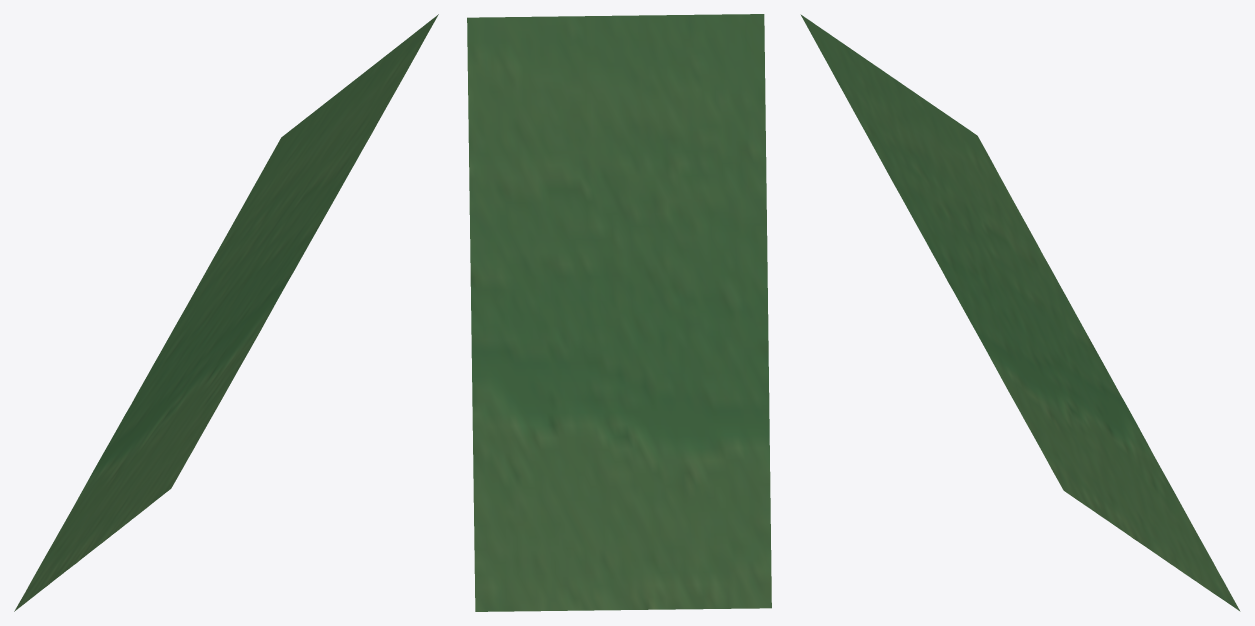
3 renders of one model, left to right at view 1: azimuth 30°, elevation 25°; view 2: azimuth 150°, elevation 25°; view 3: azimuth 270°, elevation 25°, orthographic. The views are drawn at different scales.
Size of the model in its own units: 19813 by 26499 by 19403.
